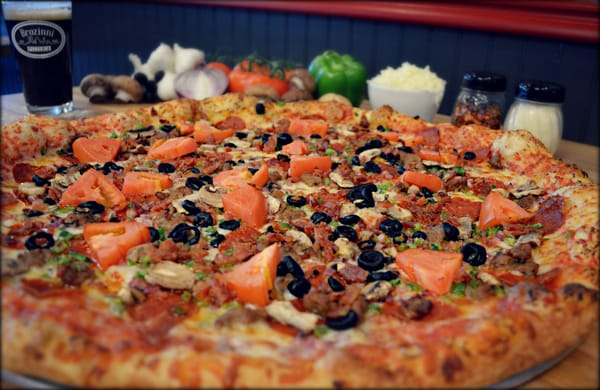burger: (1, 0, 76, 117), (504, 80, 565, 157)
sandwich: (6, 92, 596, 384)
